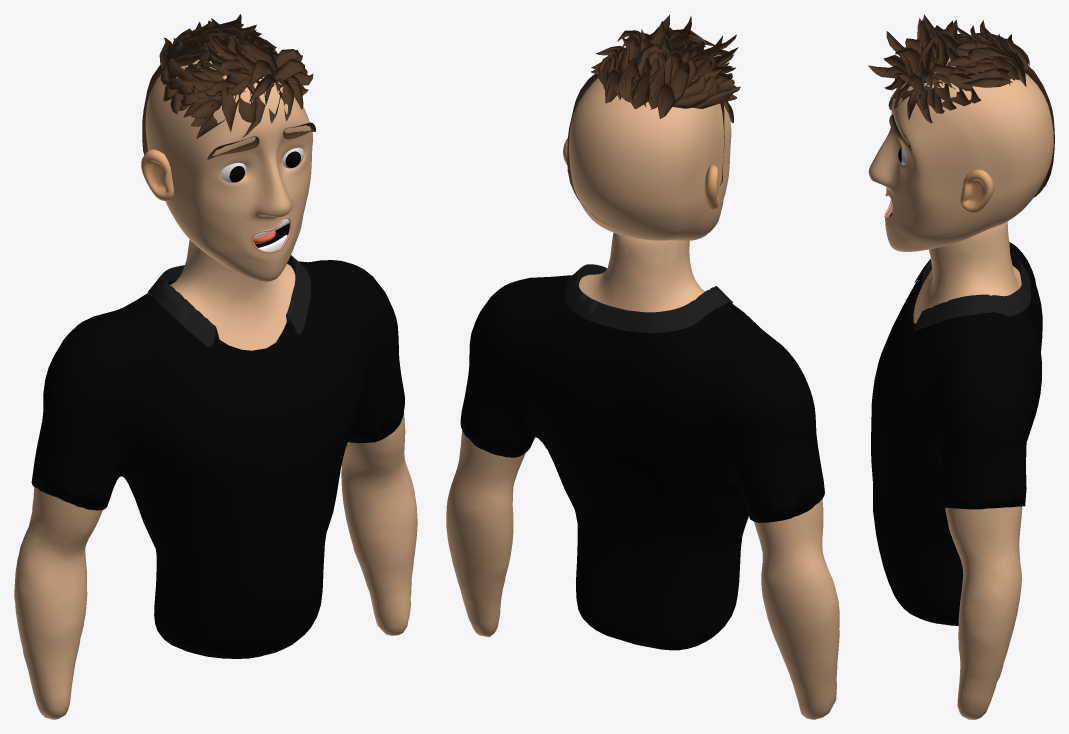
The model's file is myCharacter1.glb.
3 views of the same model, side by side, from view 1: azimuth 30°, elevation 25°; view 2: azimuth 150°, elevation 25°; view 3: azimuth 270°, elevation 25° (orthographic). The views are drawn at different scales.
Parts seen in each view (by area): view 1: Kunas, Galva; view 2: Kunas, Galva; view 3: Kunas, Galva.
Boxes of the visible parts, left/top/right/bottom form: Kunas: left=14, top=239, right=417, bottom=719; Galva: left=141, top=14, right=315, bottom=281; Kunas: left=446, top=232, right=839, bottom=719; Galva: left=563, top=14, right=740, bottom=240; Kunas: left=871, top=221, right=1042, bottom=719; Galva: left=868, top=14, right=1054, bottom=251.
Size of the model in its own units: 0.4827 by 0.775 by 0.2125.
2 materials, 2 textured.
